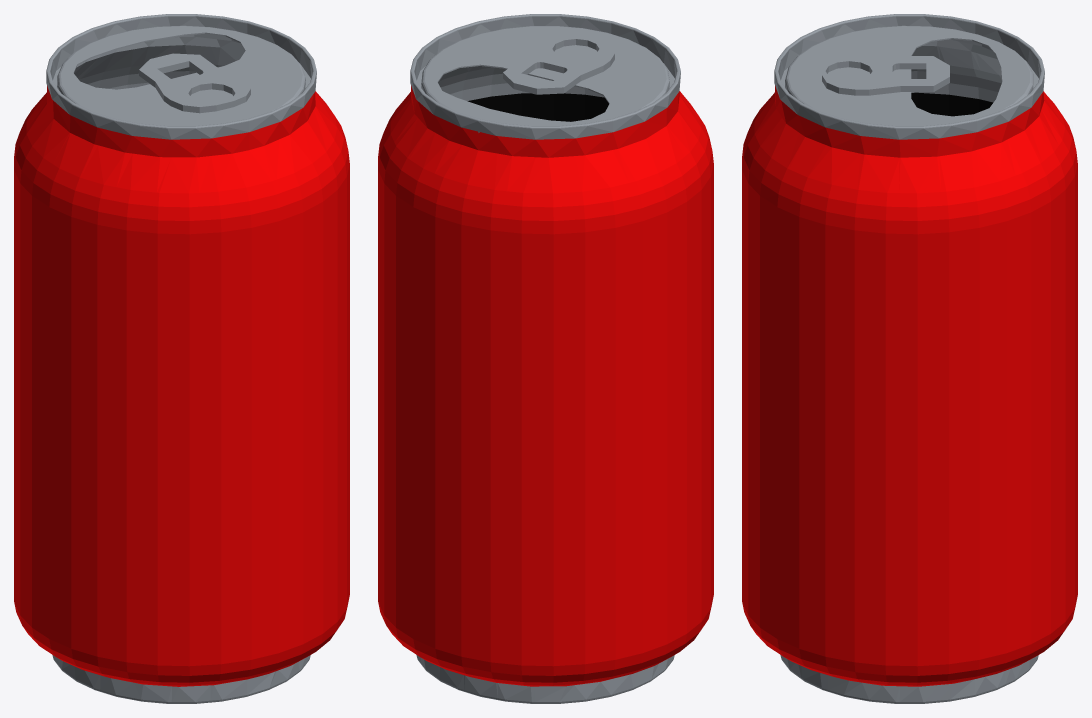
Rendered from can.dae.
3 renders of one model, left to right at view 1: azimuth 30°, elevation 25°; view 2: azimuth 150°, elevation 25°; view 3: azimuth 270°, elevation 25°, orthographic.
Visible parts, largest first — view 1: Node_0x1c31ad0 (×2); view 2: Node_0x1c31ad0 (×3); view 3: Node_0x1c31ad0 (×3).
Boxes of the visible parts, x1,y1,x2,y2 form: Node_0x1c31ad0 (×2): (14, 14, 349, 703); Node_0x1c31ad0 (×3): (378, 14, 713, 703); Node_0x1c31ad0 (×3): (742, 14, 1077, 703).
Bounding box in the file's own units: 0.0634 × 0.1207 × 0.0634.
